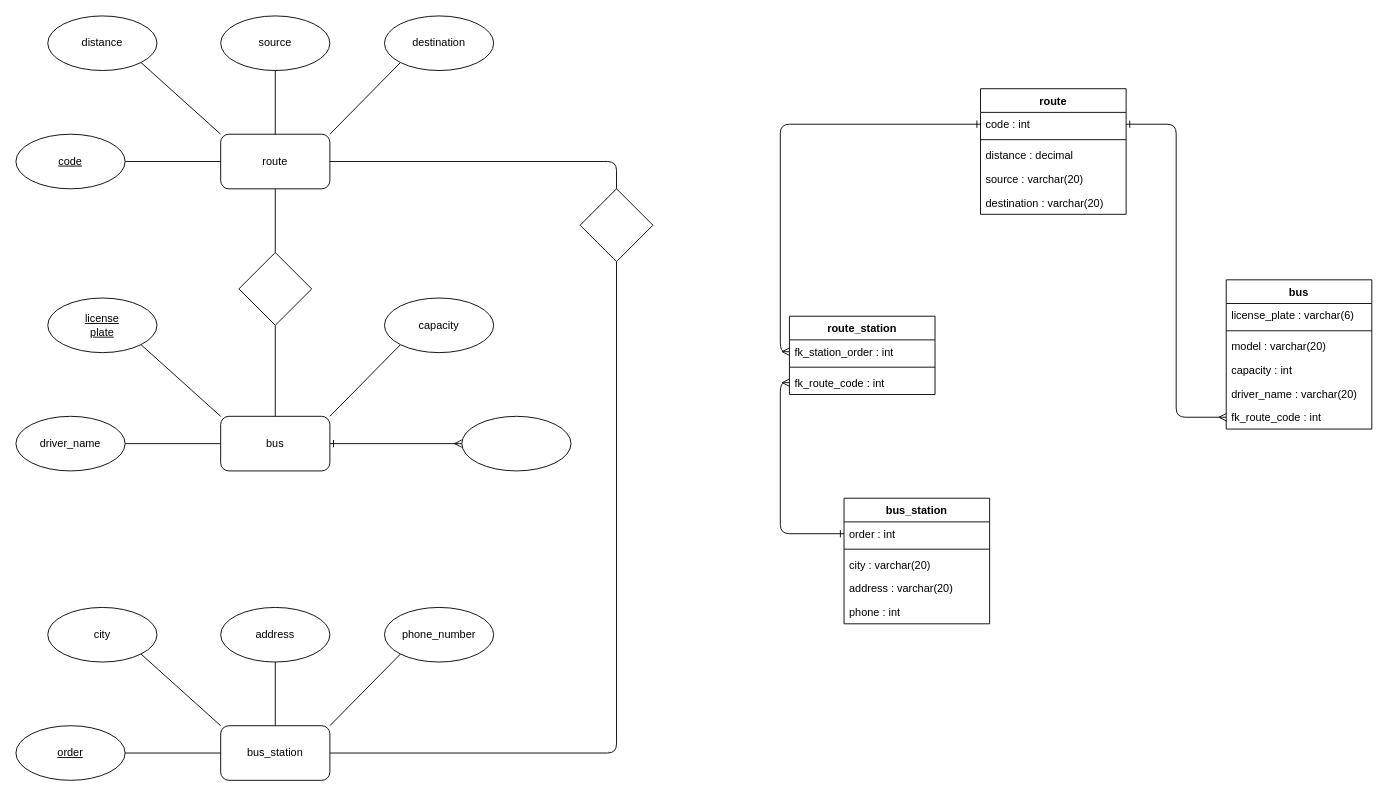
The diagram is 1388 pixels wide and 796 high, and some of its shapes have lost their labels. The shapes that lost their labels are listed below. From the top down, each one's centre as x and y in pixels, then its label:
At (616,225): "covers many".
At (275,288): "covers one".
At (516,443): "model".
